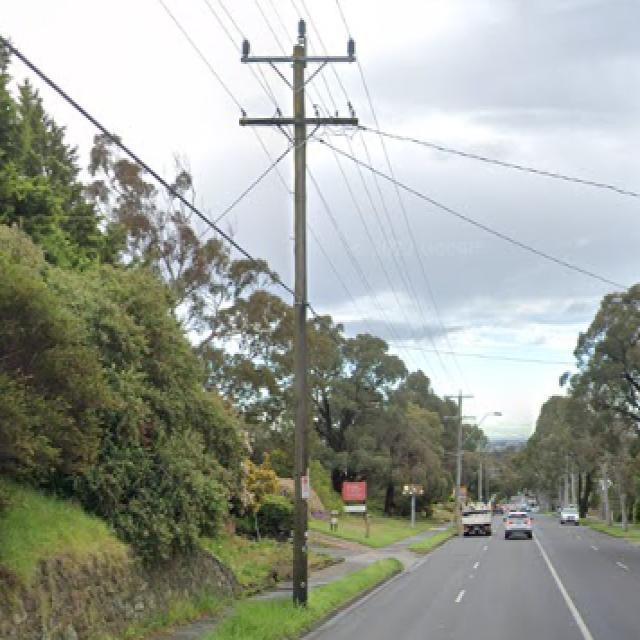HV-transmission: (240, 20, 358, 65)
crossarm: (240, 117, 360, 128), (240, 56, 356, 63), (442, 416, 478, 420), (443, 396, 475, 400)
streetlight: (462, 411, 502, 446)
timber-pole: (292, 20, 308, 607), (453, 390, 465, 536)
